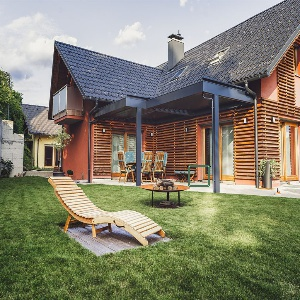square: (186, 162, 212, 189)
